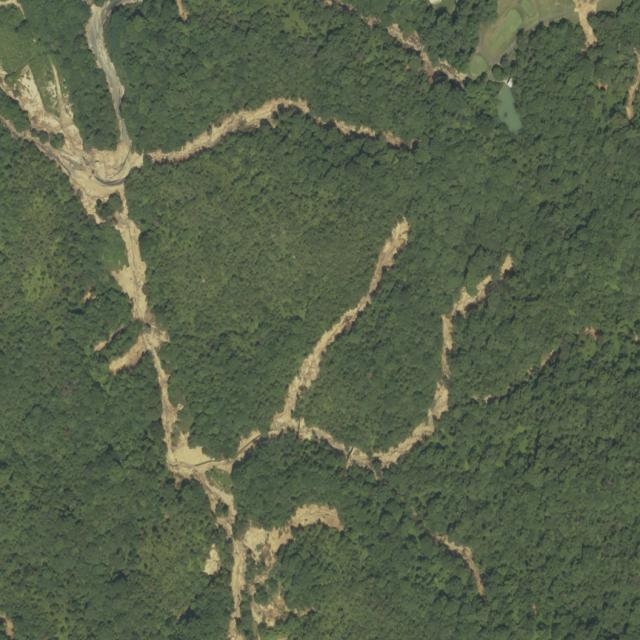landslide: (0, 0, 343, 639), (267, 218, 492, 478), (147, 98, 310, 162)
